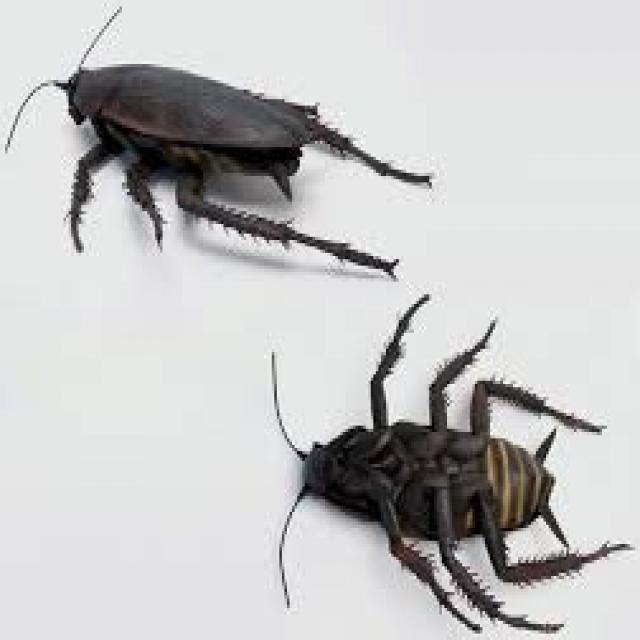Cockroach: (0, 0, 468, 304), (250, 296, 640, 640)
